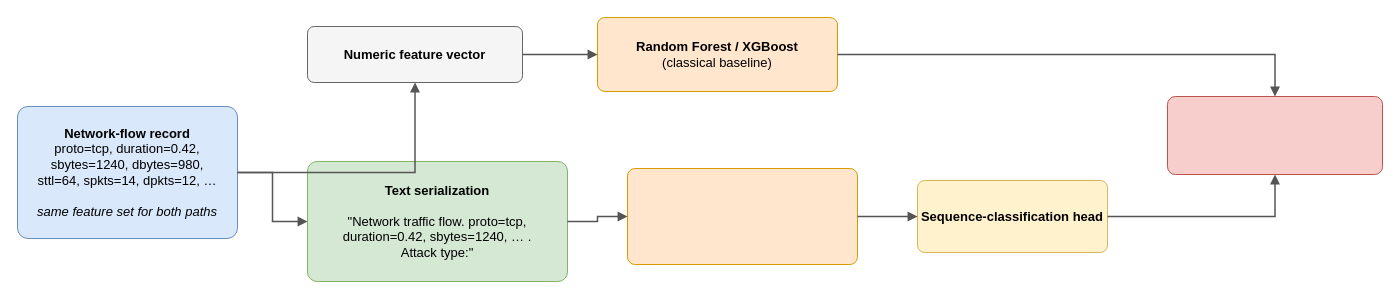
This 1400x299 diagram has some shape labels left out. The box of each missing label's shape, as (x1, y1, x2, y2) in pixels:
Decoder-only LLM LoRA / 4-bit QLoRA GPT-2-medium · Qwen2.5: (626, 168, 858, 264)
Predicted class (benign / attack type): (1166, 96, 1382, 174)
